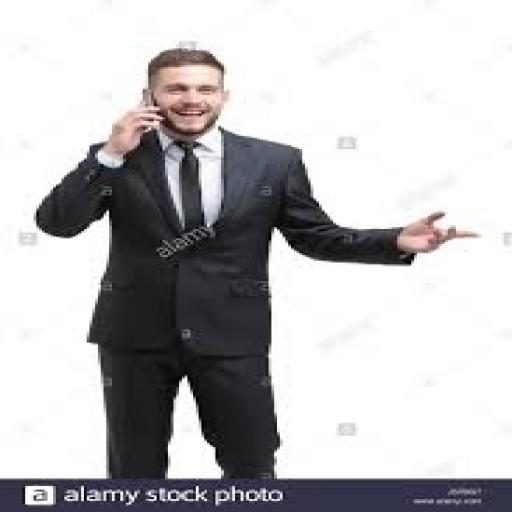calling: (31, 43, 478, 480)
